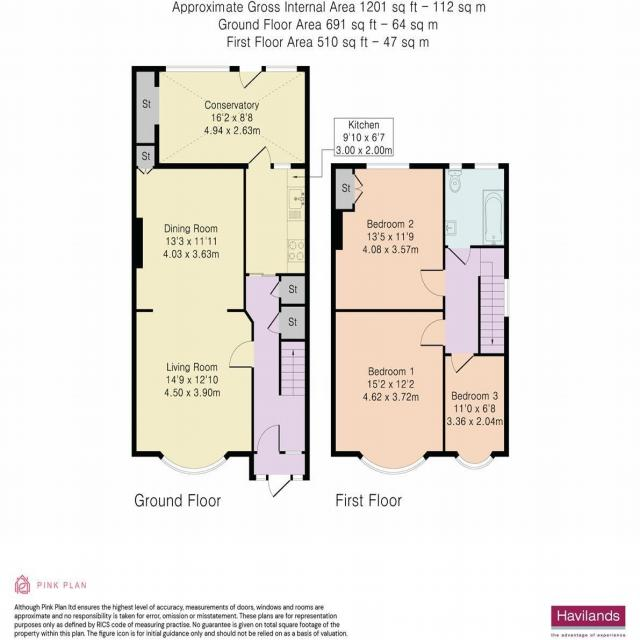DOOR: (419, 266, 446, 299), (418, 317, 446, 348), (227, 338, 254, 370), (256, 423, 281, 454), (245, 143, 273, 169), (445, 244, 473, 268), (267, 474, 291, 500), (450, 353, 475, 375)
ROOM: (132, 163, 254, 475), (330, 309, 446, 475), (331, 163, 445, 313), (442, 352, 509, 469)
WINDOW: (159, 453, 229, 476), (358, 453, 428, 476), (455, 453, 495, 471), (365, 161, 411, 171), (503, 275, 512, 319), (474, 160, 499, 171), (274, 162, 291, 170), (448, 161, 463, 170), (292, 473, 303, 482), (255, 474, 266, 482), (285, 450, 302, 455)
